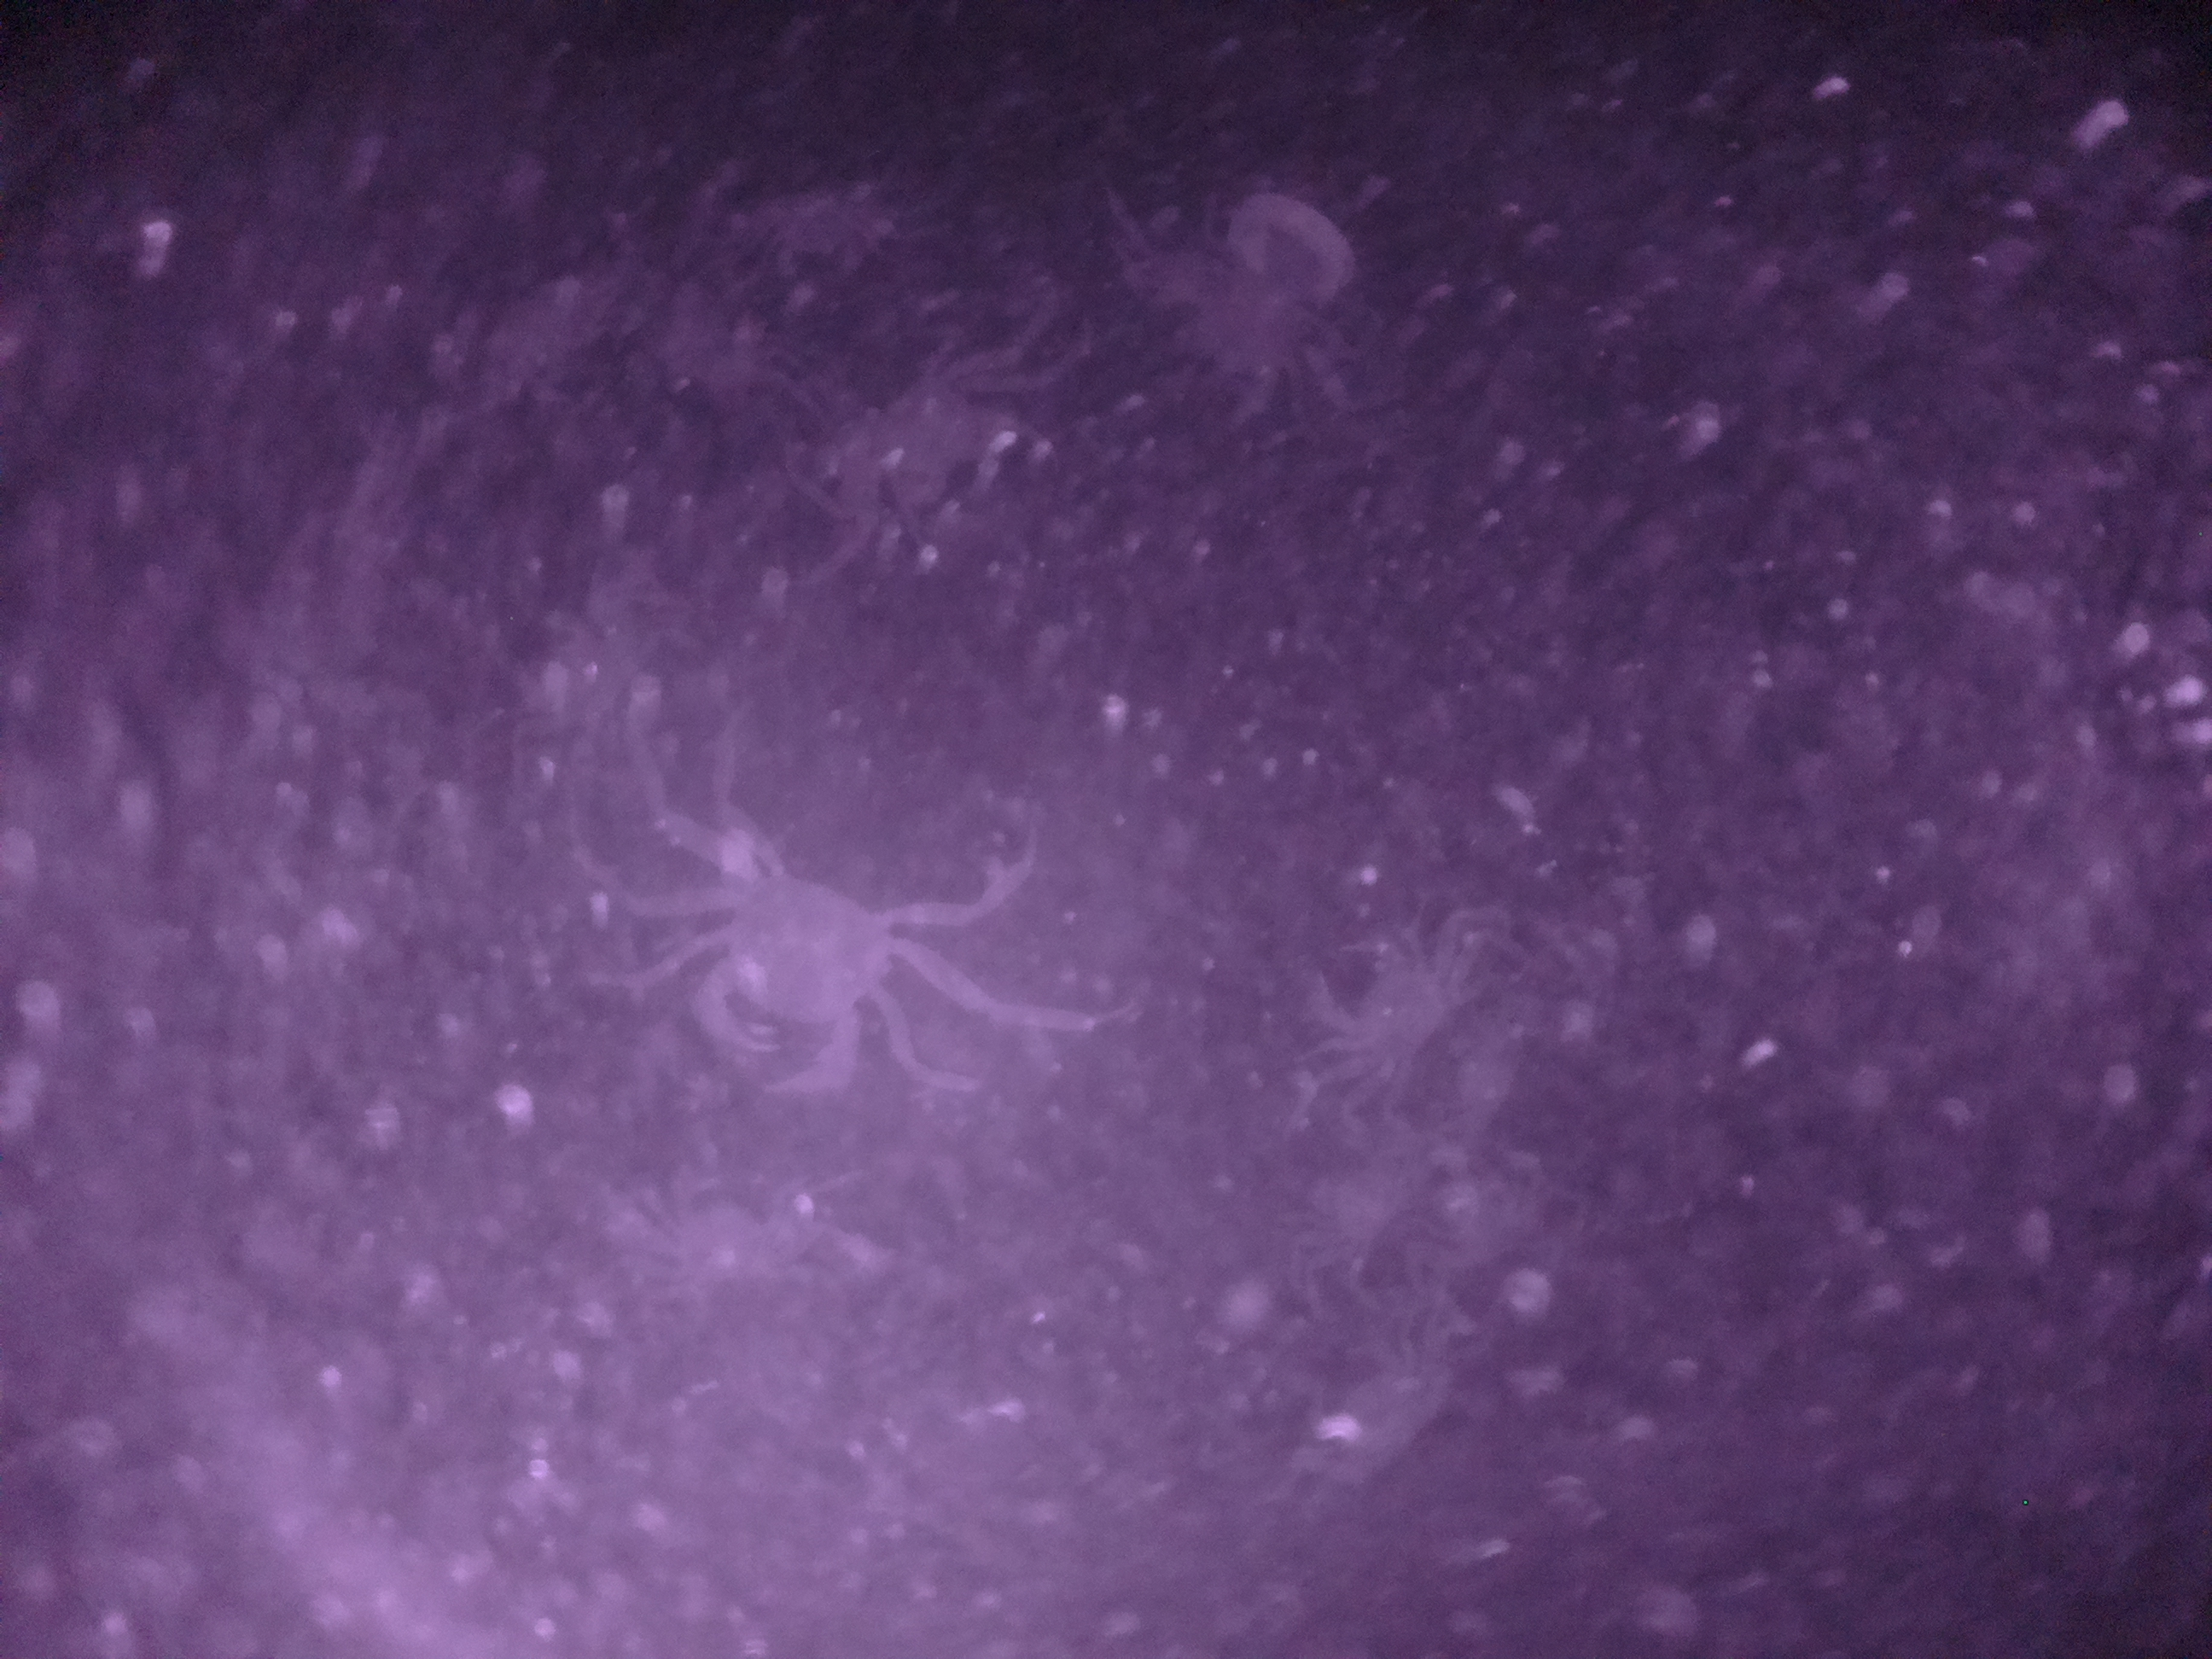Crab: (648, 847, 939, 1110), (1299, 892, 1479, 1101)
